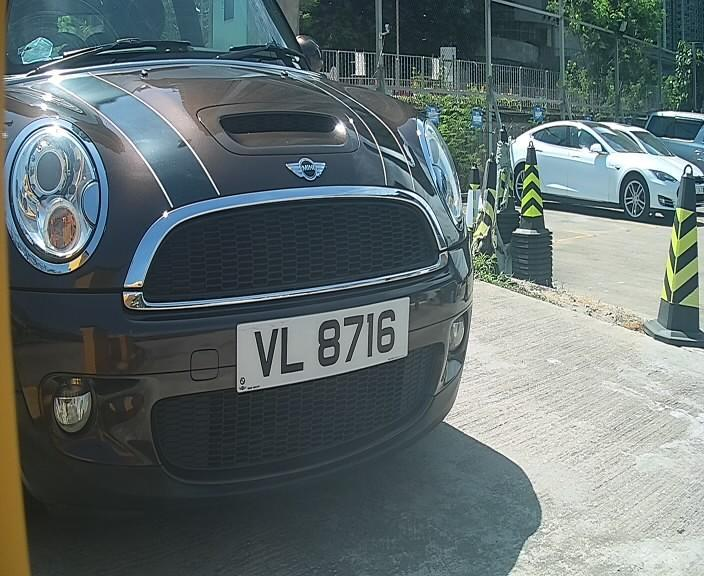privatecar: (3, 1, 487, 509)
